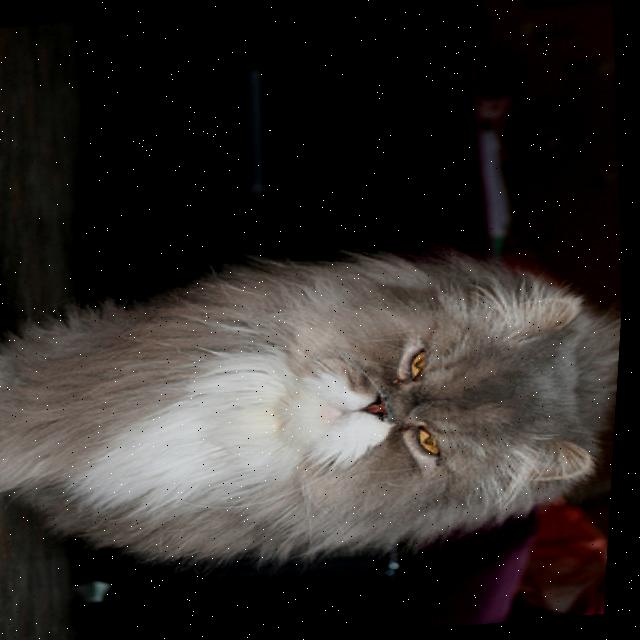Persian: (0, 224, 630, 586)
